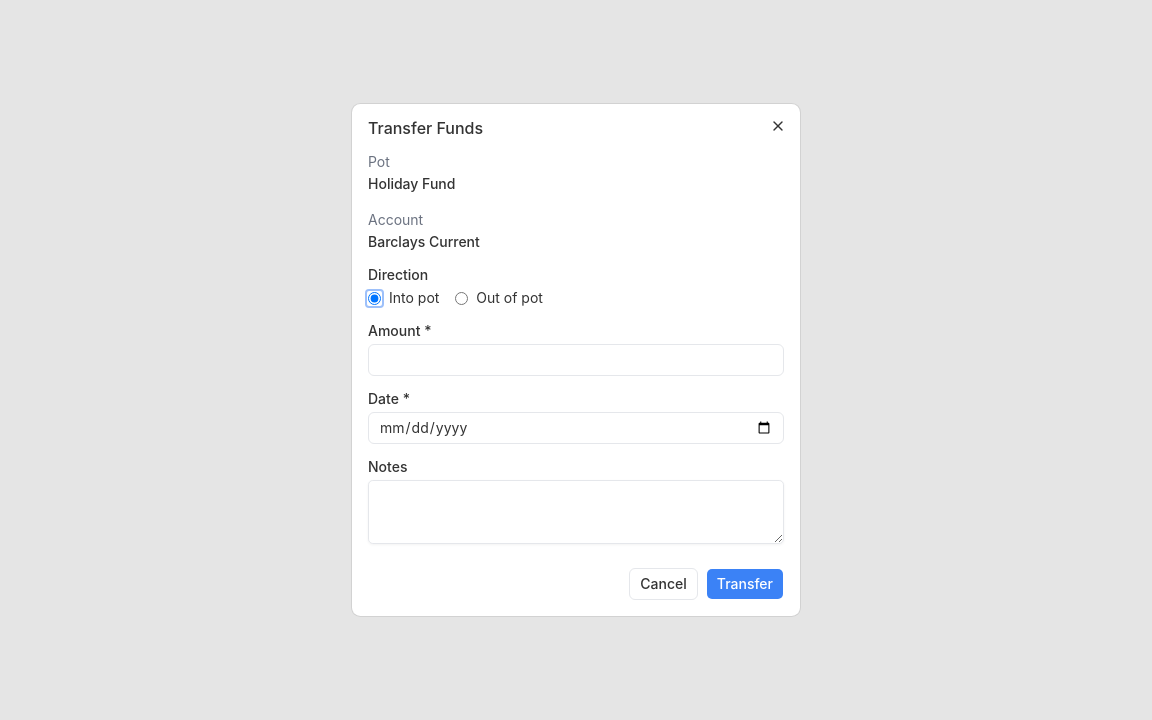
PotTransferDialog › shows validation error for zero amount
This screenshot has width=1152, height=720.
Type "0" into the number field labelled "Amount *" at (576, 360), box [368,344,784,376]
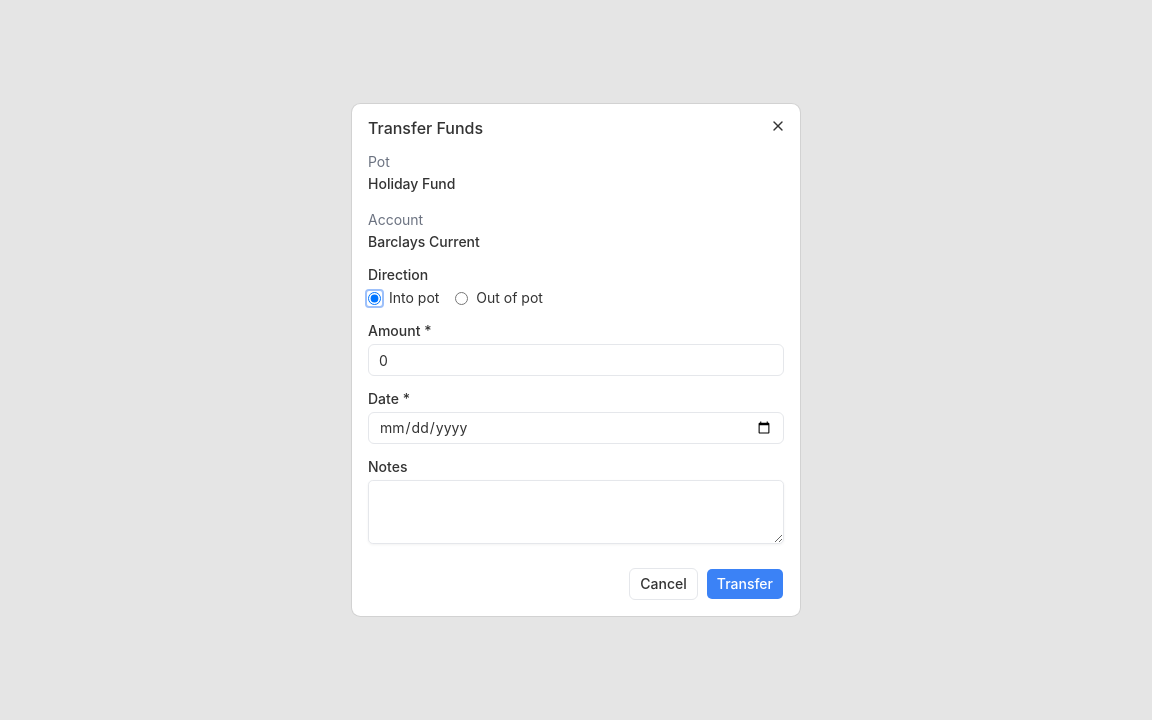
Type "2024-02-01" into the date field labelled "Date *" at (576, 428), box [368,412,784,444]
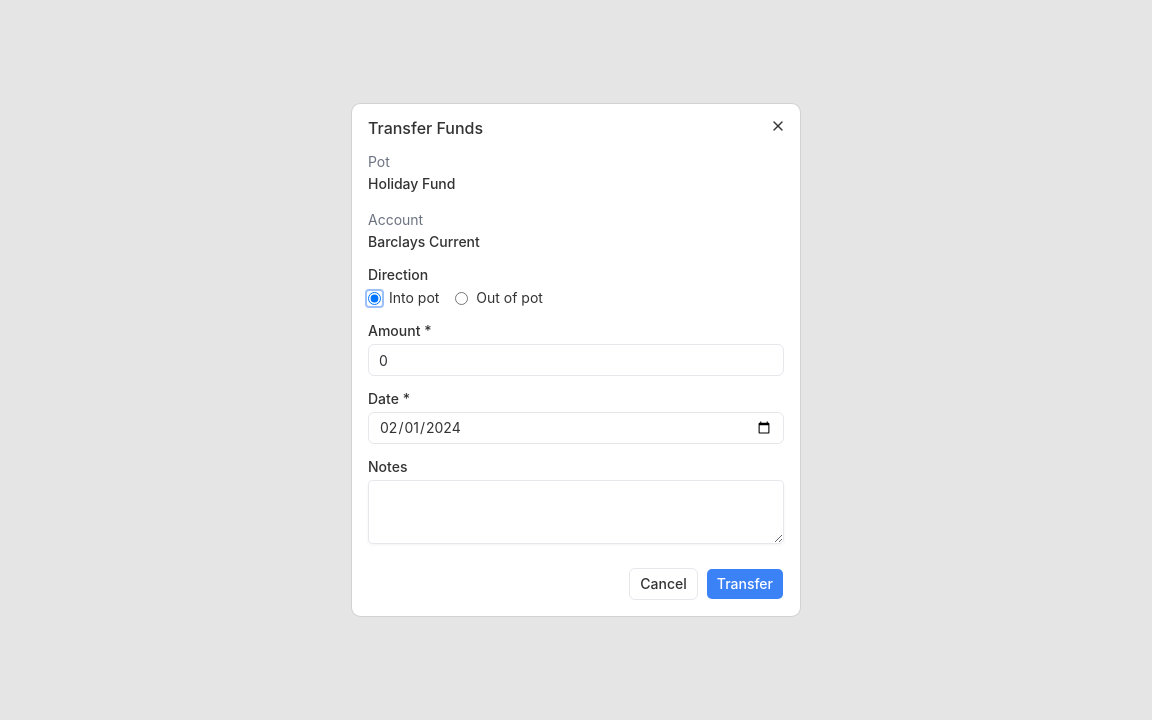
Click the button "Transfer" at (745, 584), box [706,568,784,600]
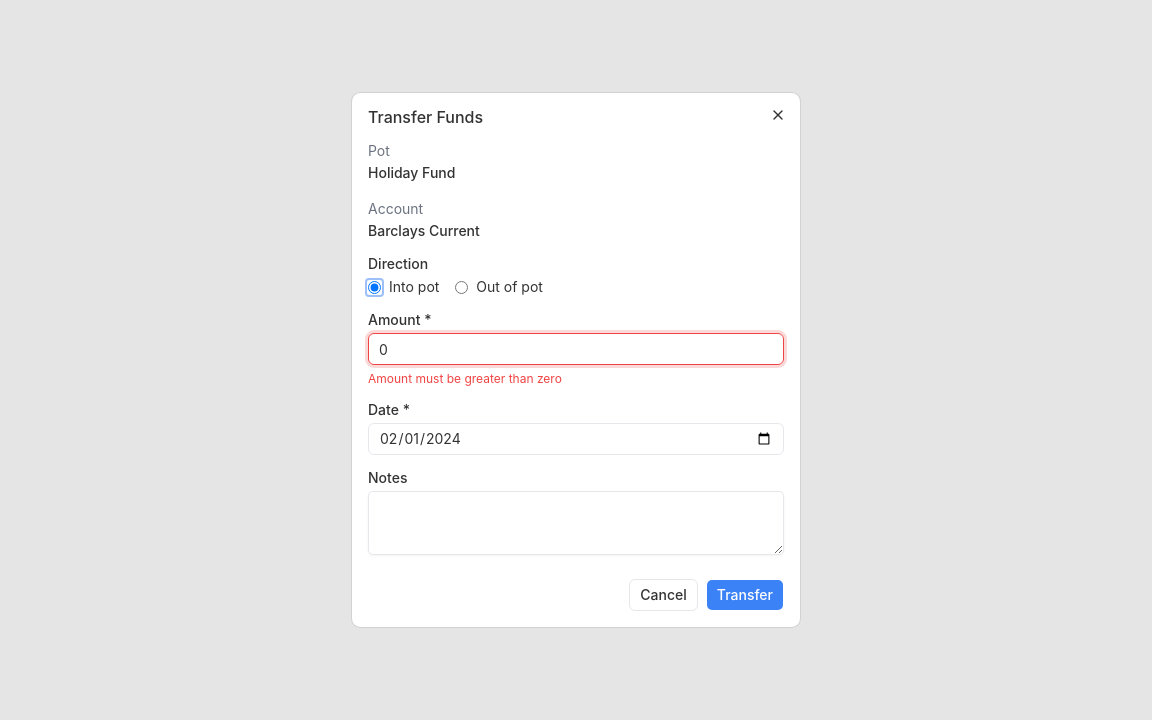
Check: the text "Amount must be greater than zero" is shown, box [368,371,562,386]
